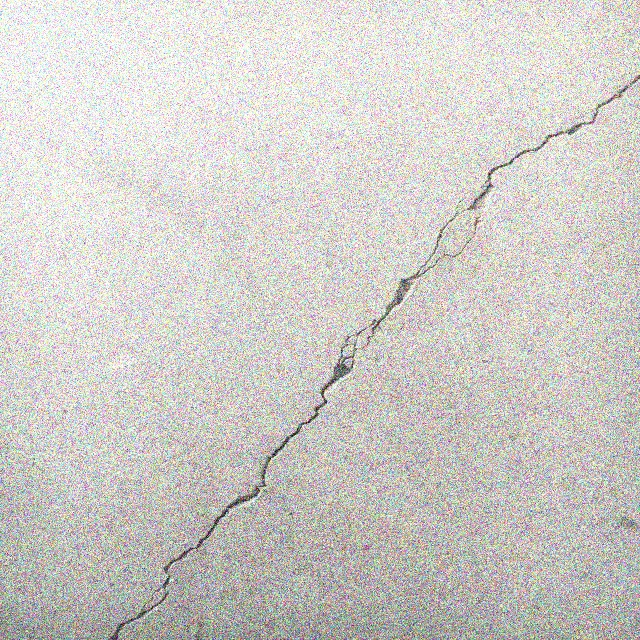SurfaceCrack: (47, 1, 640, 640)
